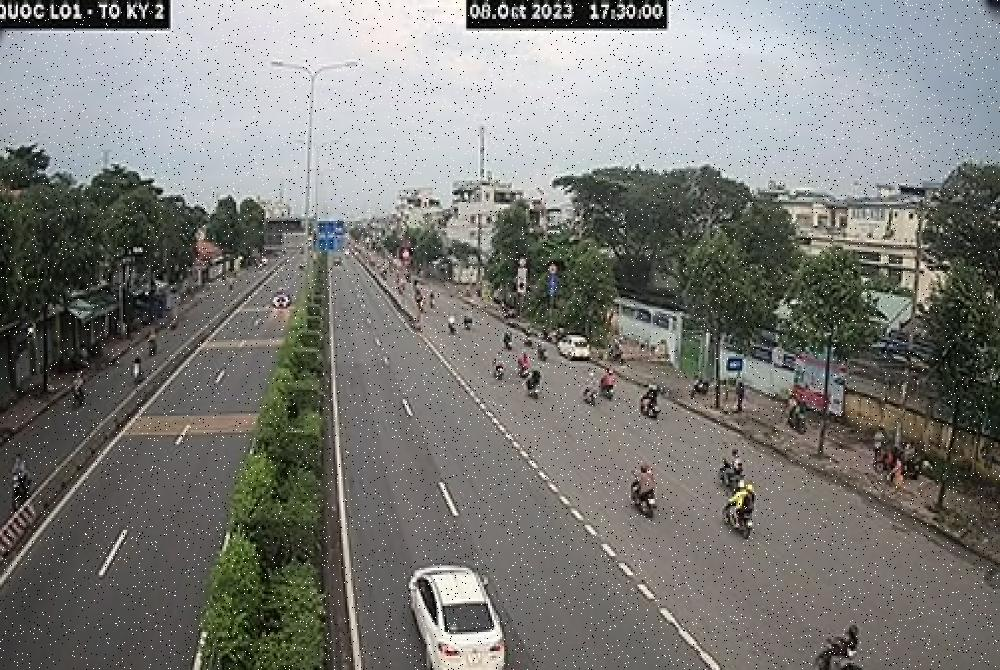car: (409, 563, 506, 670)
